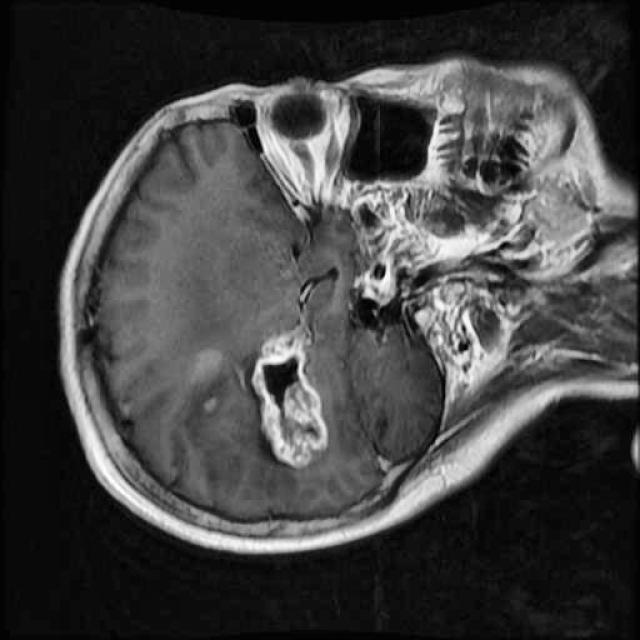Tumor: (236, 320, 346, 479)
